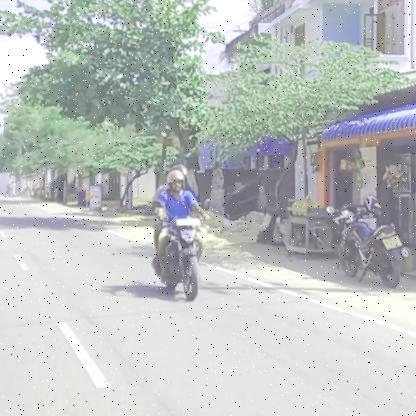motorcycle: (150, 217, 212, 304)
